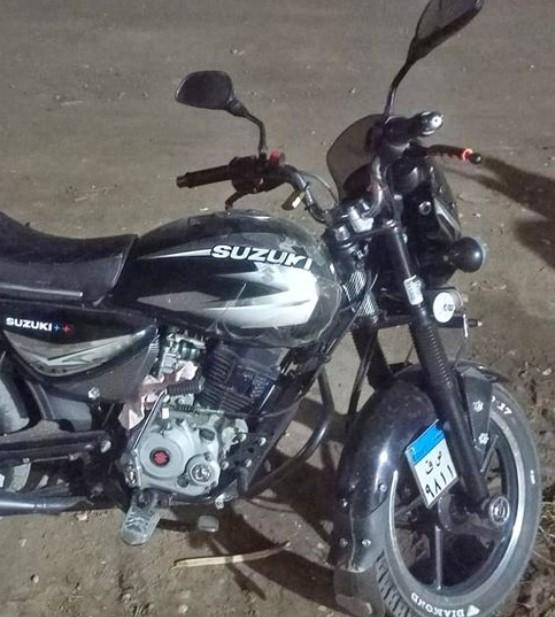License Plate: (404, 420, 462, 509)
